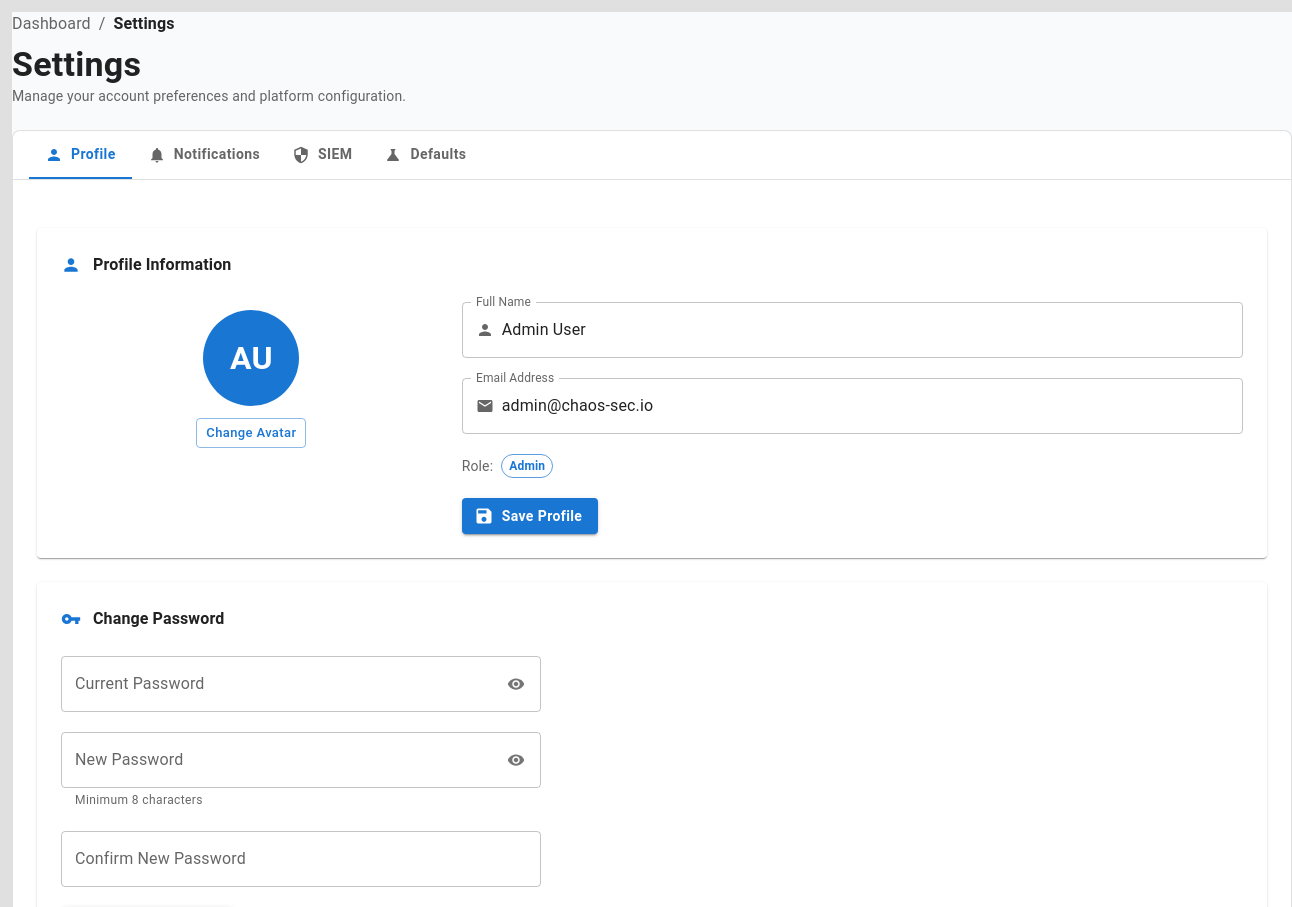
Test: SettingsPage – notification settings › renders notification toggles after switching to Notifications tab
The image size is (1292, 907).
Click the tab "Notifications" at (204, 155), box x1=132 y1=131 x2=276 y2=179
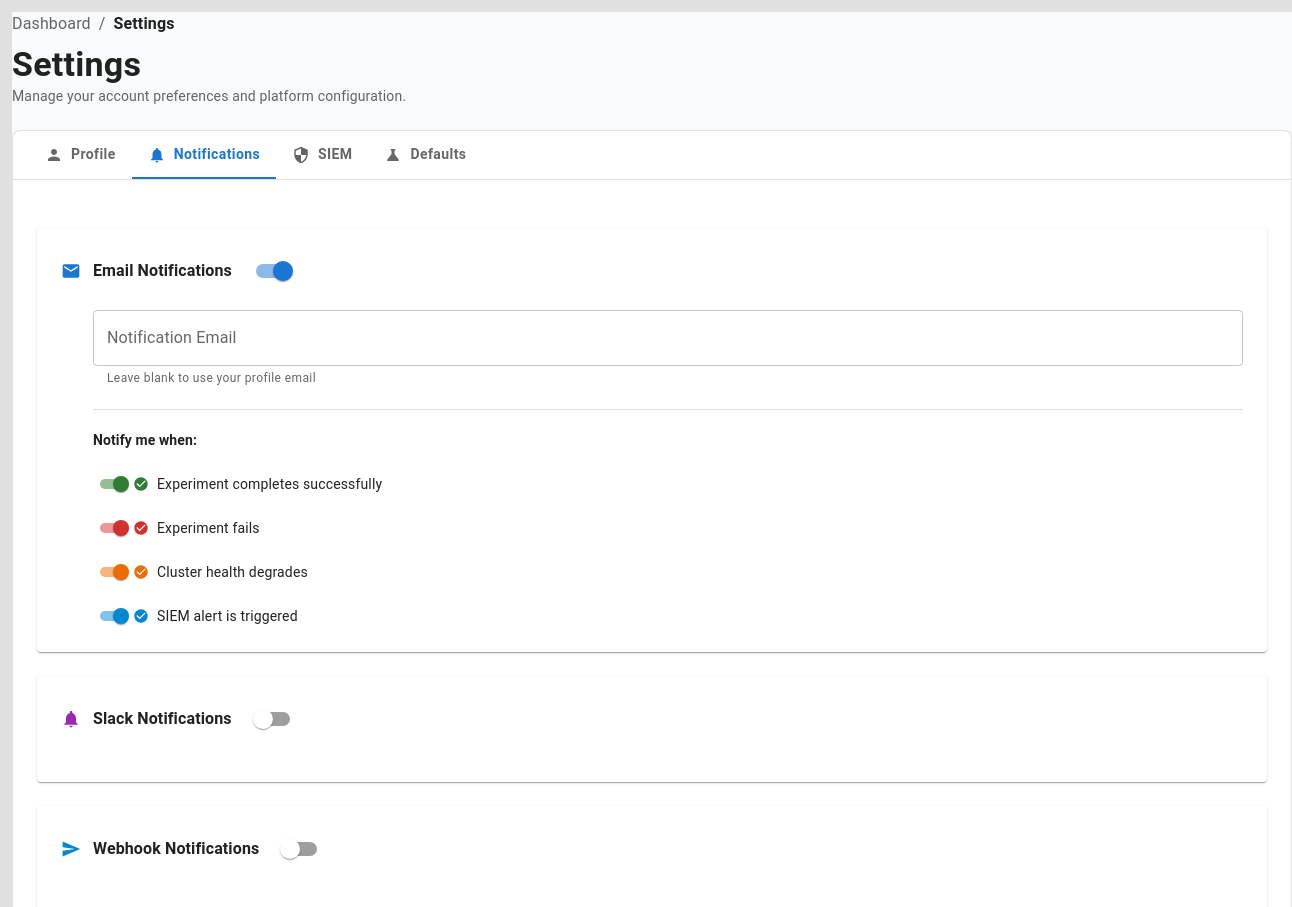
Now the field labelled "Notification Email" is shown, box x1=93 y1=310 x2=1243 y2=366
